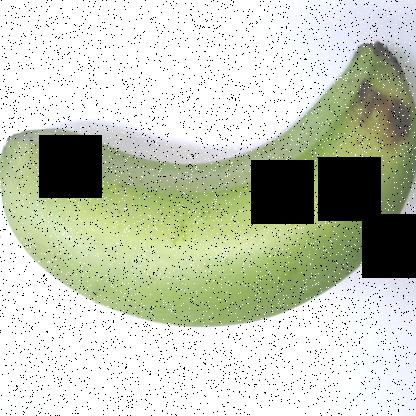freshunripe: (0, 34, 415, 351)
